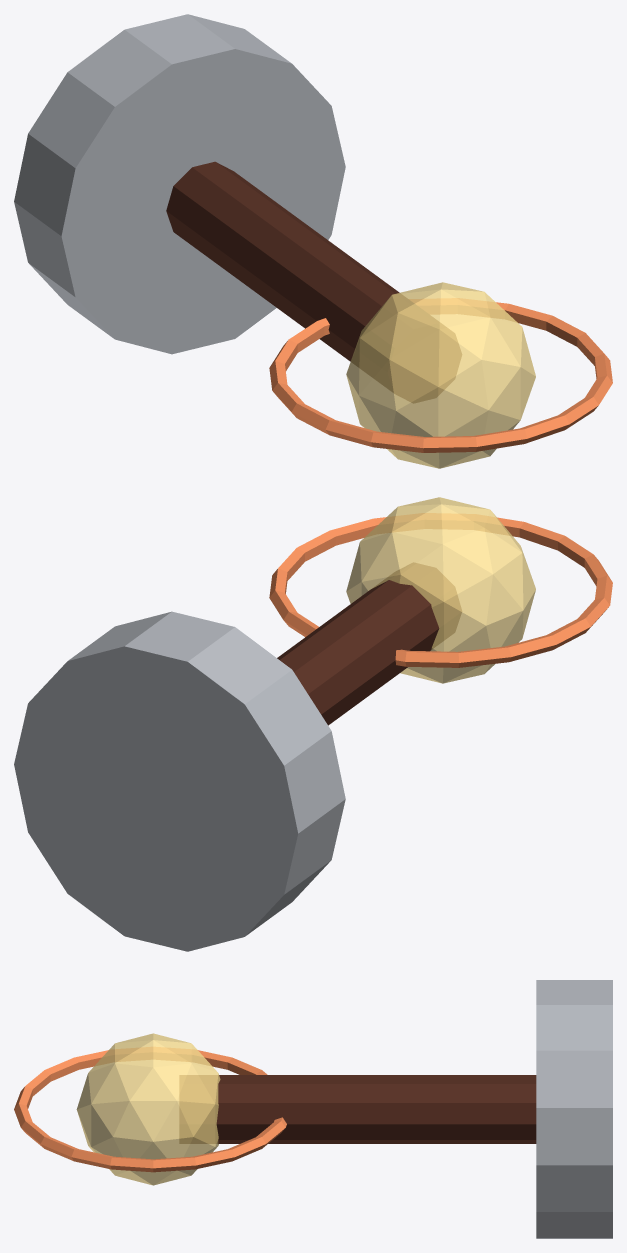
File: 03_world_landmark_light.glb
The picture shows the model from 3 angles, top to bottom: view 1: azimuth 30°, elevation 25°; view 2: azimuth 150°, elevation 25°; view 3: azimuth 270°, elevation 25°; orthographic projection. The views are drawn at different scales.
Visible parts, largest first — view 1: light_base, light_column, light_core, light_halo; view 2: light_base, light_core, light_column, light_halo; view 3: light_column, light_base, light_core, light_halo.
Part boxes in pixels (left/top/right/bottom): light_base: left=14, top=14, right=345, bottom=354; light_column: left=166, top=161, right=461, bottom=402; light_core: left=346, top=282, right=535, bottom=468; light_halo: left=269, top=298, right=612, bottom=452; light_base: left=14, top=611, right=345, bottom=951; light_core: left=346, top=497, right=535, bottom=683; light_column: left=277, top=563, right=461, bottom=725; light_halo: left=269, top=513, right=612, bottom=667; light_column: left=180, top=1075, right=536, bottom=1143; light_base: left=536, top=980, right=612, bottom=1238; light_core: left=76, top=1033, right=220, bottom=1185; light_halo: left=14, top=1047, right=286, bottom=1172.
Size of the model in its own units: 0.8 by 0.7409 by 1.72.
